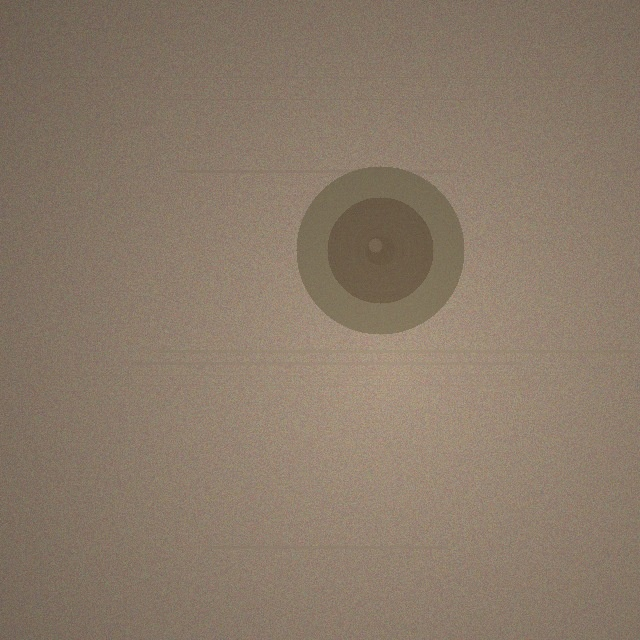good: (296, 166, 464, 334)
